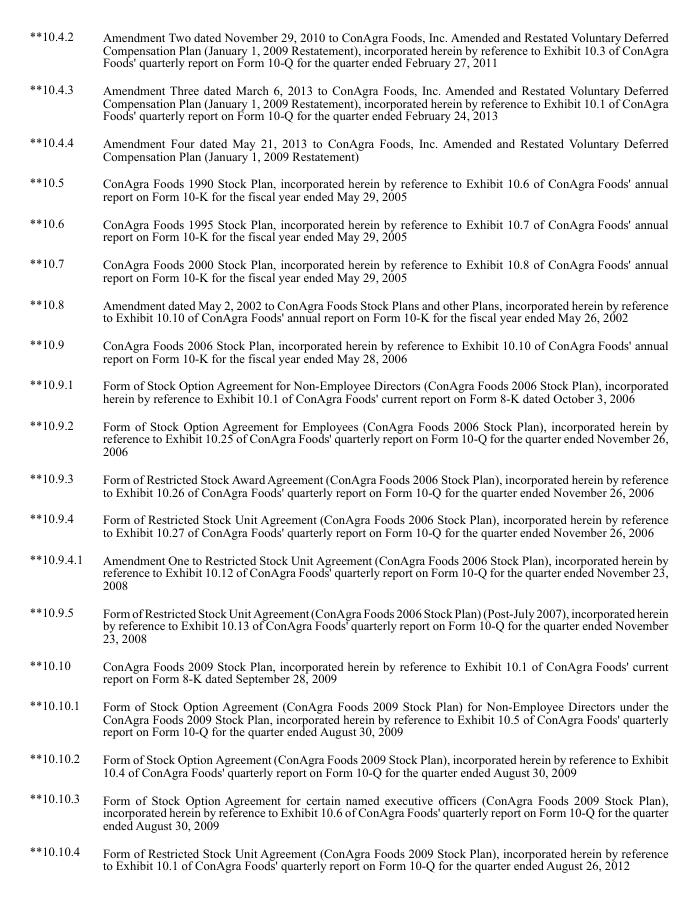table: (28, 28, 667, 871)
table column: (92, 28, 667, 871), (28, 28, 92, 871)
table row: (28, 544, 667, 598), (28, 75, 667, 128), (28, 411, 667, 464), (28, 598, 667, 651), (28, 691, 667, 744), (28, 784, 667, 837), (28, 28, 667, 75), (28, 168, 667, 209), (28, 289, 667, 330), (28, 370, 667, 411), (28, 128, 667, 168), (28, 209, 667, 249), (28, 249, 667, 289), (28, 330, 667, 370), (28, 464, 667, 504), (28, 504, 667, 544), (28, 651, 667, 691), (28, 744, 667, 784), (28, 837, 667, 871)
